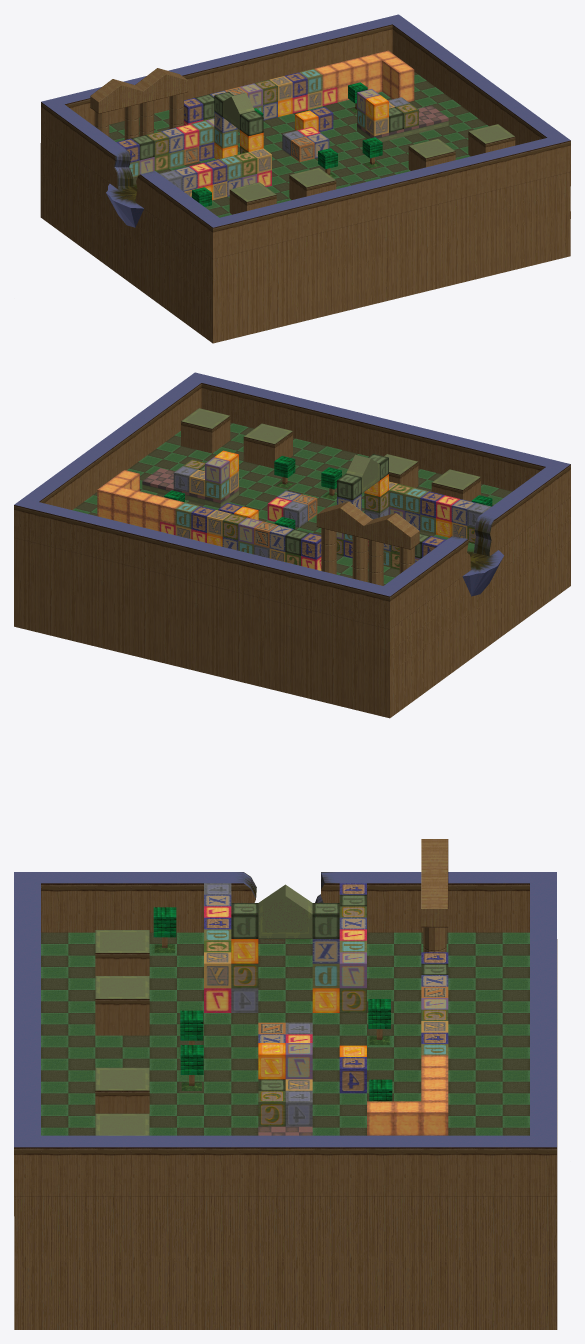
Rendered from test-zone2.glb.
3 views of the same model, one above another, from view 1: azimuth 30°, elevation 25°; view 2: azimuth 150°, elevation 25°; view 3: azimuth 270°, elevation 25° (orthographic). The views are drawn at different scales.
Parts seen in each view (by area): view 1: test; view 2: test; view 3: test.
Part boxes in pixels (x1=…): test: x1=40, y1=14, x2=570, y2=343; test: x1=14, y1=372, x2=570, y2=718; test: x1=14, y1=839, x2=557, y2=1329.
Size of the model in its own units: 361 by 216 by 290.
30 materials, 29 textured.
